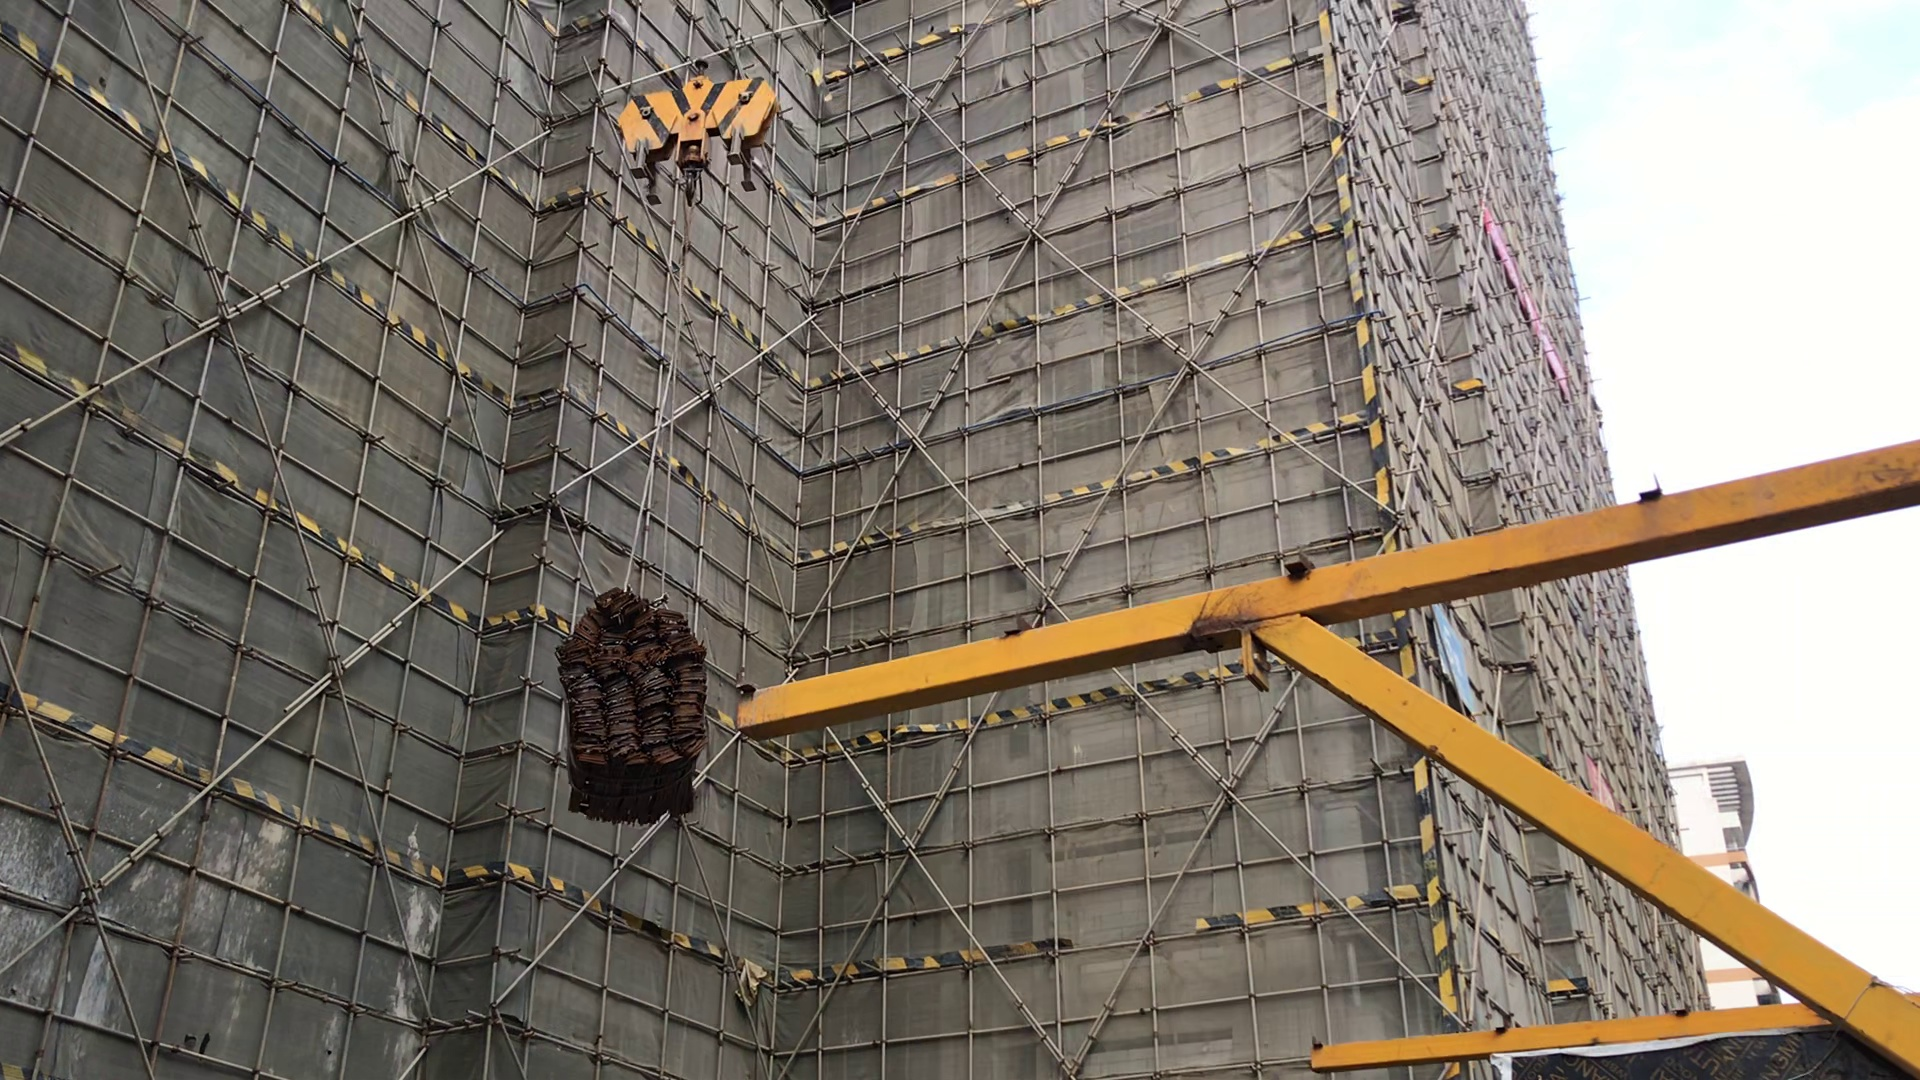hook: (612, 49, 789, 196)
